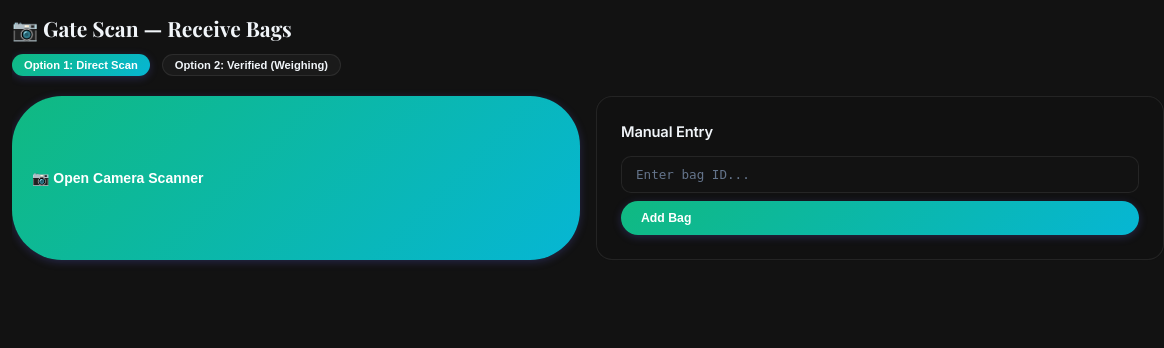
it: Plant Gate Scan Page Component › handles already received status error
Type "JH-DHA-HCF0001-Y-20260830-000002" into the field with placeholder "Enter bag ID...".
click(880, 175); type("JH-DHA-HCF0001-Y-20260830-000002")  # box [621, 156, 1139, 193]
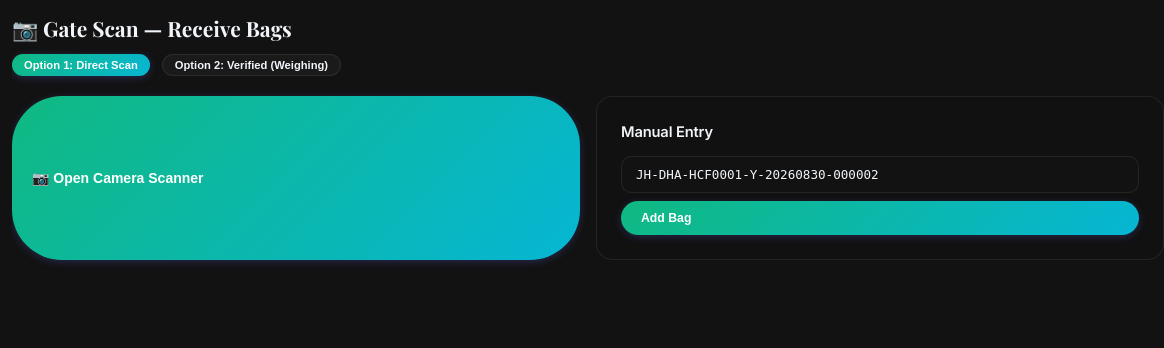
Click the button "Add Bag".
click(666, 218)  # box [621, 201, 1139, 235]
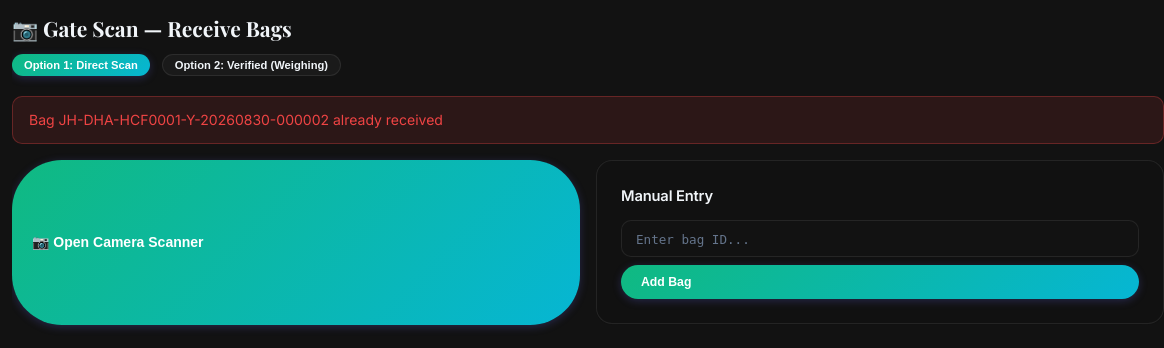
Result: the text "Bag JH-DHA-HCF0001-Y-20260830-000002 already received" is shown at [12, 96, 1163, 144]
